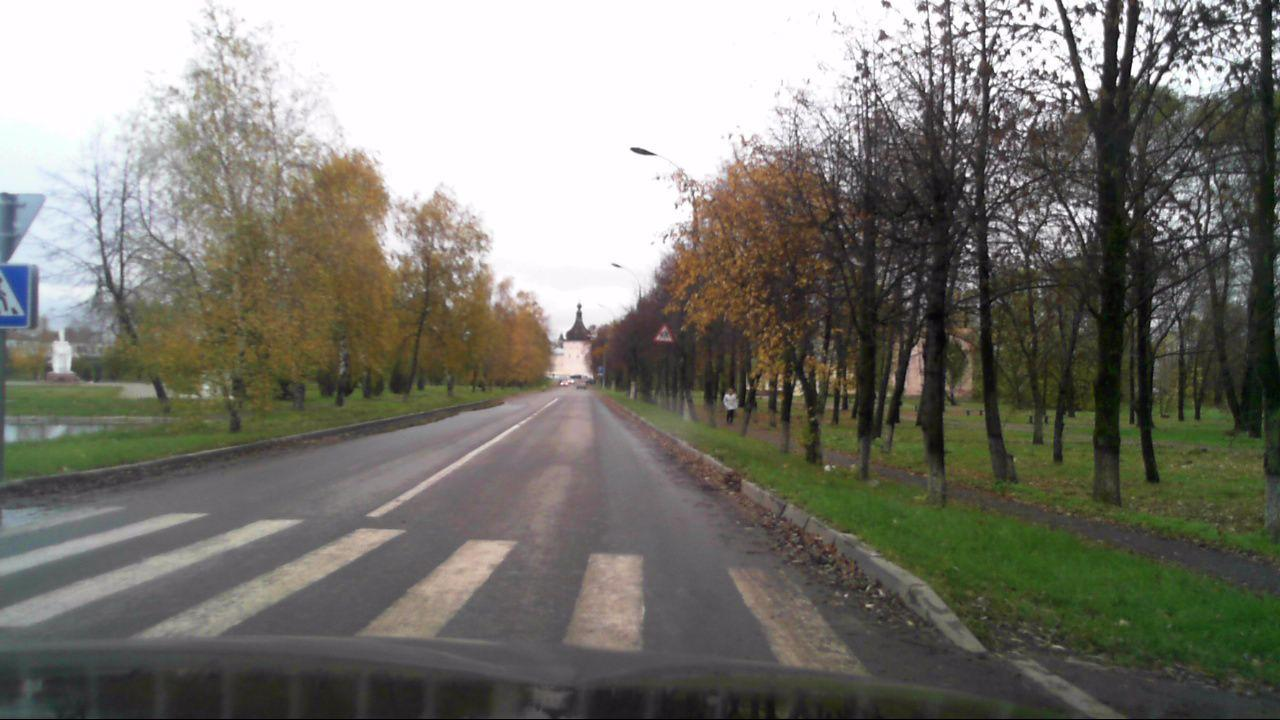obstructed_road_sign: (0, 264, 40, 330)
